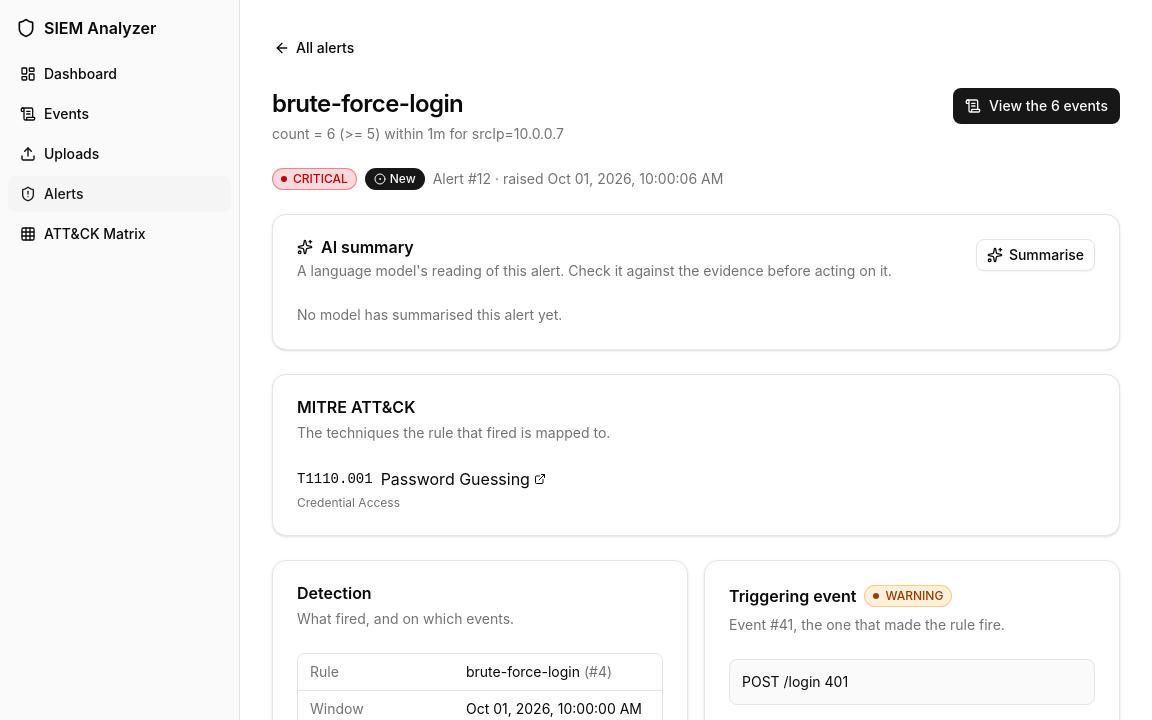
Scenario: alert details › lets an analyst have the alert summarised
This screenshot has width=1152, height=720.
Expected: the text "No model has summarised this alert yet." is shown, [297, 306, 562, 323]
Click the button "Summarise" at {"x": 1035, "y": 255}, box [976, 239, 1095, 271]
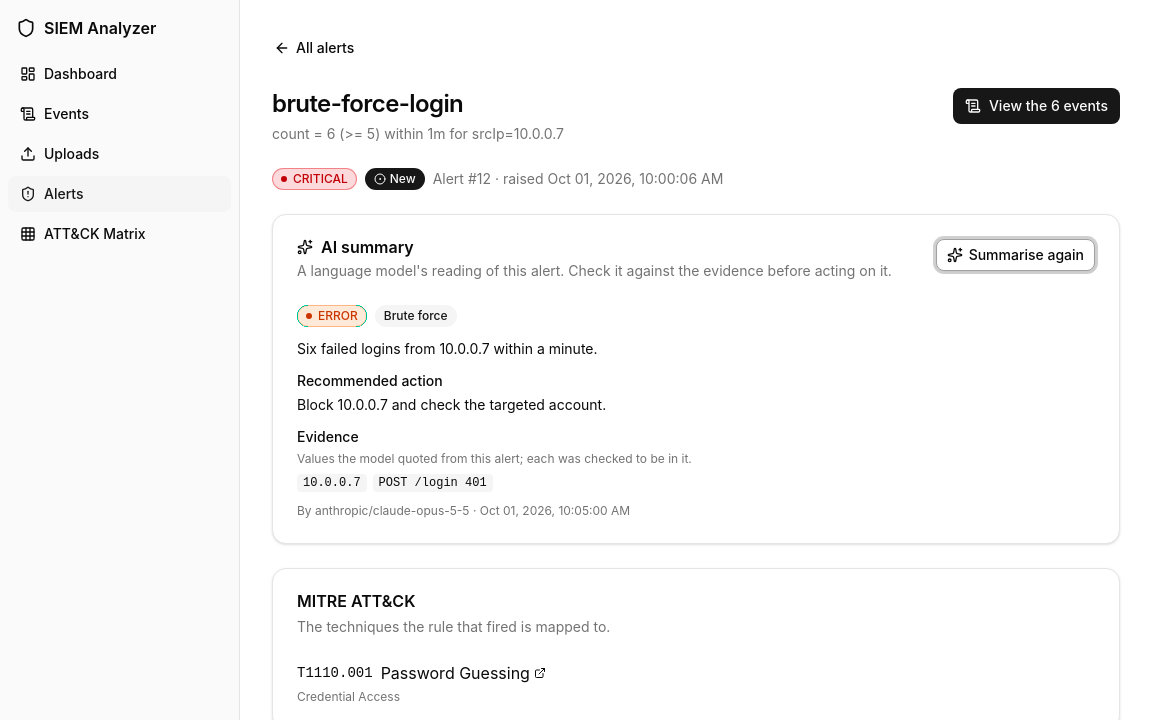
Expected: the text "Six failed logins from 10.0.0.7 within a minute." is shown, [297, 340, 598, 357]
Expected: the button "Summarise again" is shown, [936, 239, 1095, 271]
